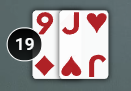9: (32, 10, 57, 38)
j: (58, 9, 84, 37)
